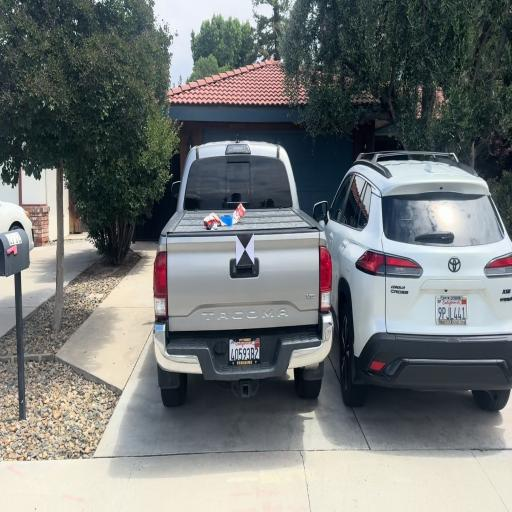target: (236, 234, 254, 266)
